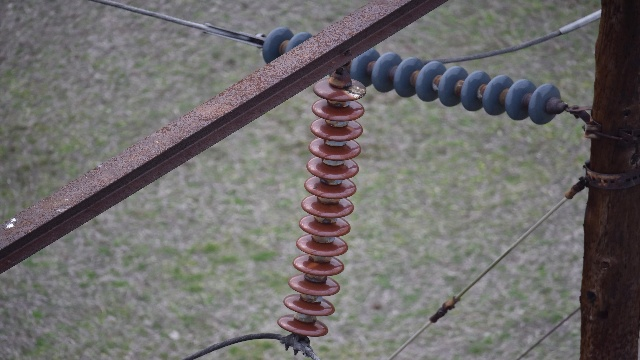insulator_unspecified: (261, 26, 560, 124), (276, 73, 364, 335)
pollution_flashover_local: (345, 82, 365, 99), (305, 260, 318, 270)
